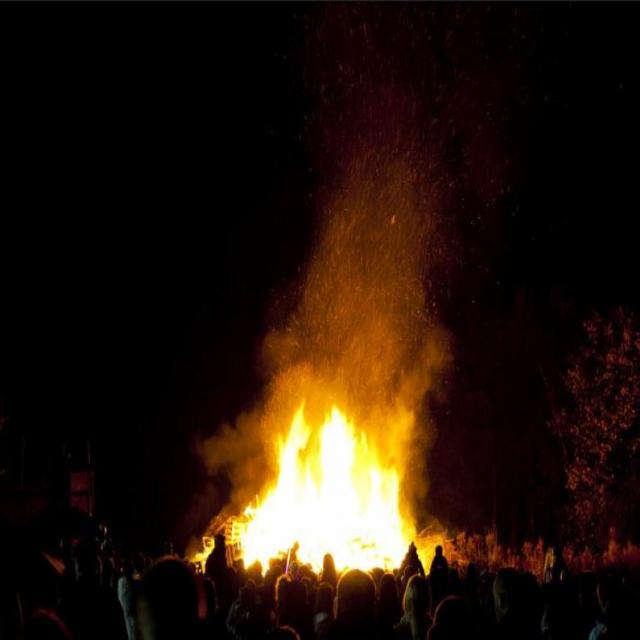fire: (229, 141, 441, 569)
